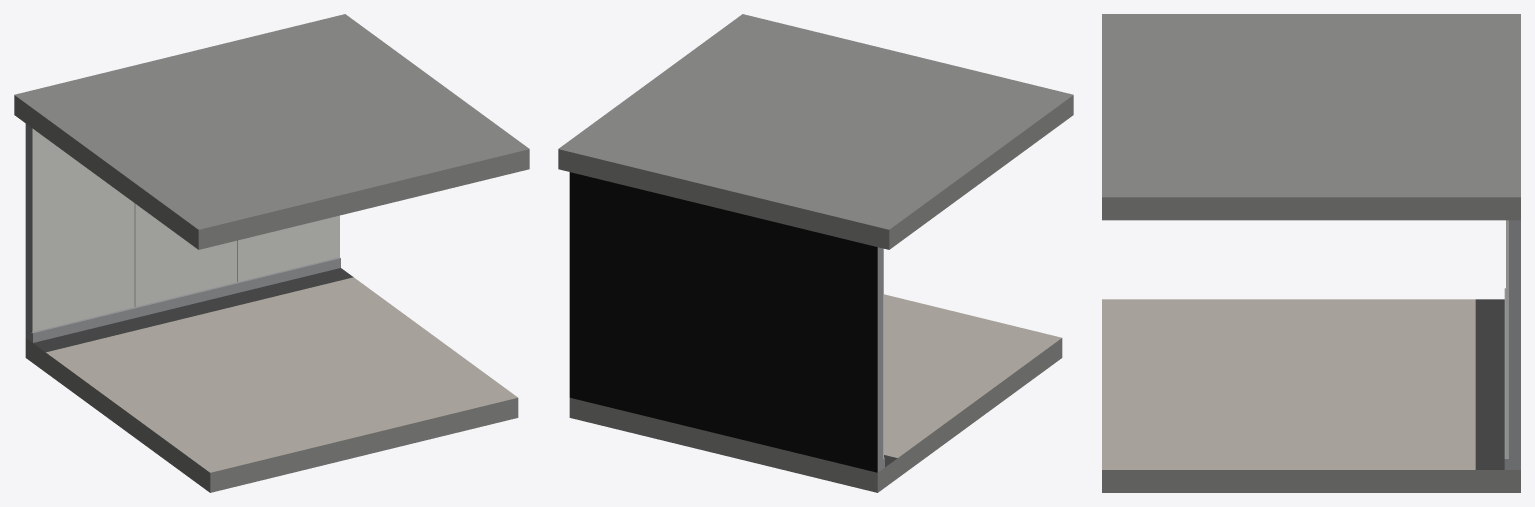
The model's file is gteki_passage_tee_w4.glb.
3 views of the same model, side by side, from view 1: azimuth 30°, elevation 25°; view 2: azimuth 150°, elevation 25°; view 3: azimuth 270°, elevation 25° (orthographic). The views are drawn at different scales.
Parts seen in each view (by area): view 1: VIS_body; view 2: VIS_body; view 3: VIS_body.
Boxes of the visible parts, x1=… form: VIS_body: x1=14, y1=14, x2=529, y2=492; VIS_body: x1=558, y1=14, x2=1073, y2=492; VIS_body: x1=1102, y1=14, x2=1520, y2=492.
Size of what is drawn, in the model's own units: 4.3 by 3.3 by 4.15.
Materials: 1 (1 with a texture image).
